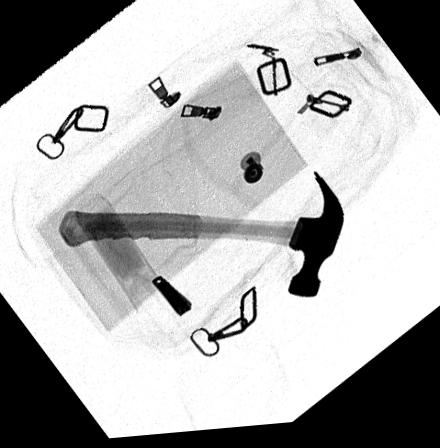Hammer: (56, 176, 343, 302)
